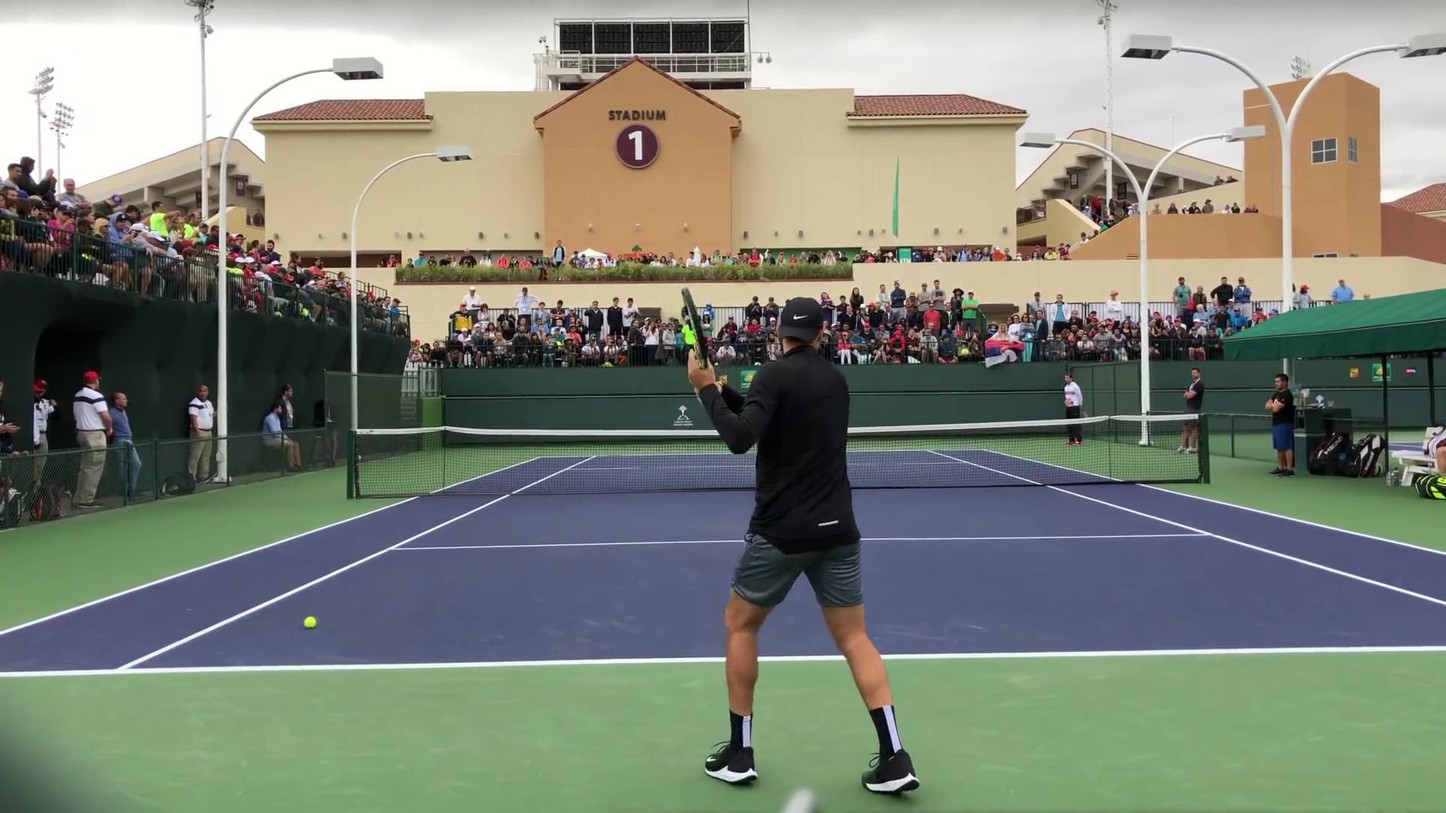ball: (304, 616, 319, 628)
